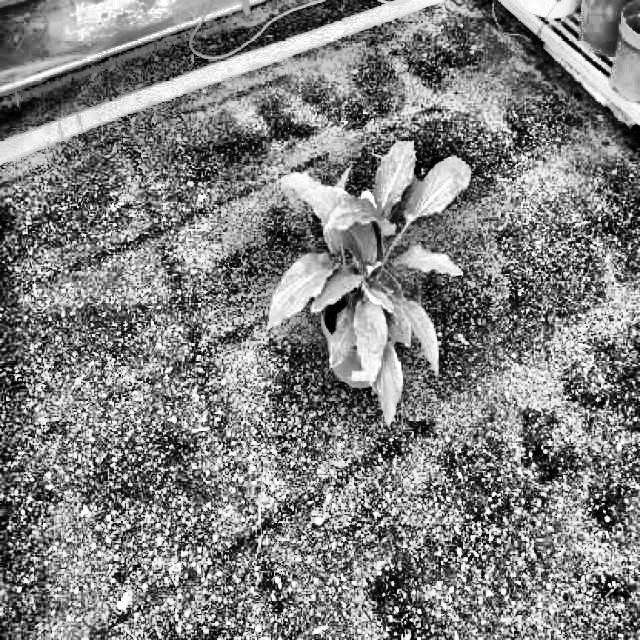plants: (264, 142, 473, 424)
